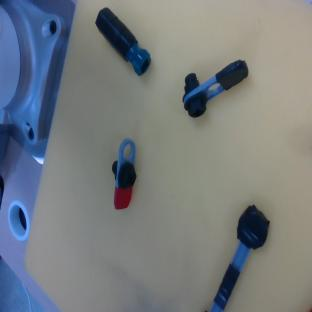part_1_bad: (169, 41, 253, 121)
part_1_good: (112, 138, 136, 209)
part_2_bad: (89, 4, 157, 78)
part_3_bad: (204, 202, 276, 312)
